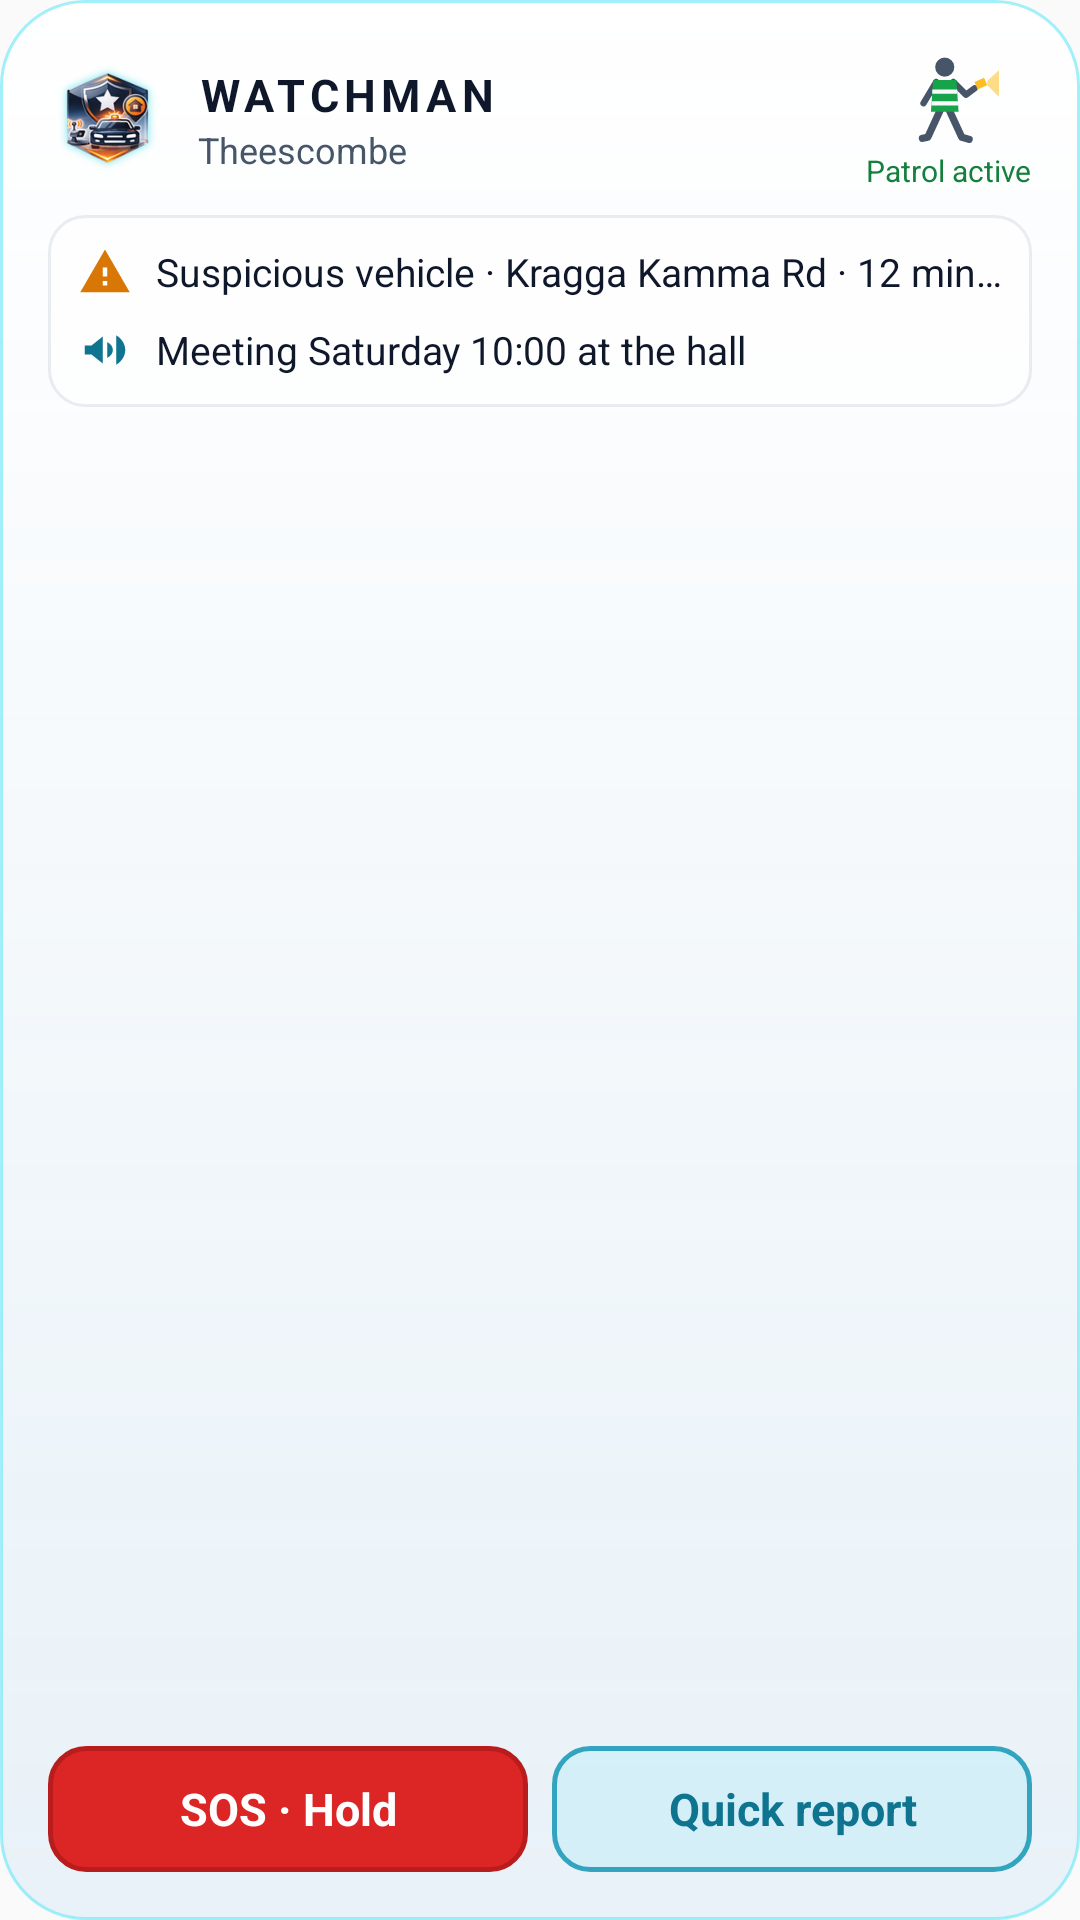

Where to tap for icons on this 1080px×1920px app screen, as (x,y):
widget alert: (105,271)
widget megaphone: (105,350)
widget torch patroller on: (958,100)
